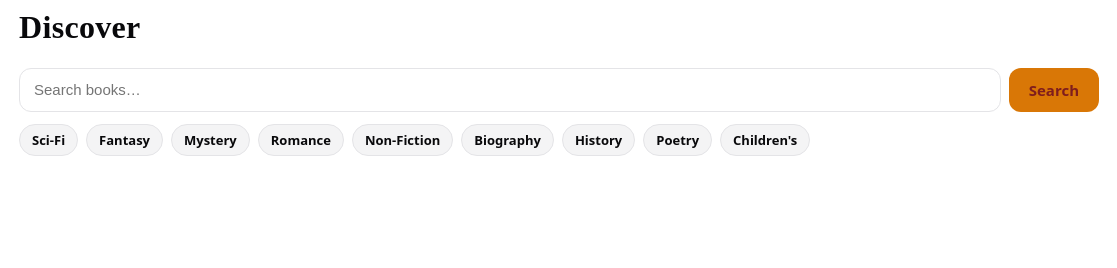
Discover › does not show a fake result list when the API returns nothing
Step 1. Type "zzzz" into the field with placeholder "Search books…" → (510, 90), box [19,68,1001,112]
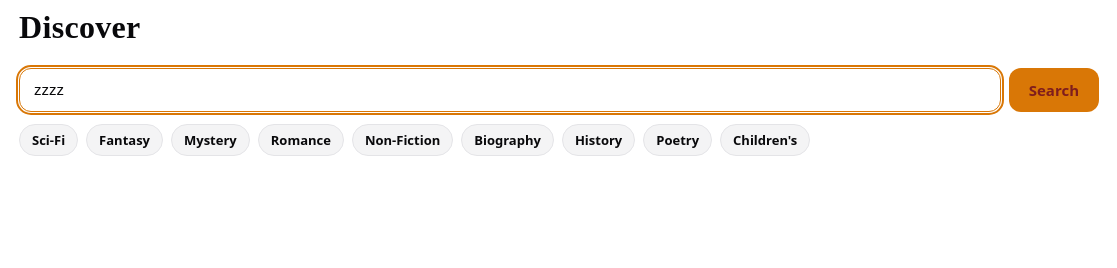
Step 2. Click the button "Search" → (1054, 90), box [1009,68,1099,112]
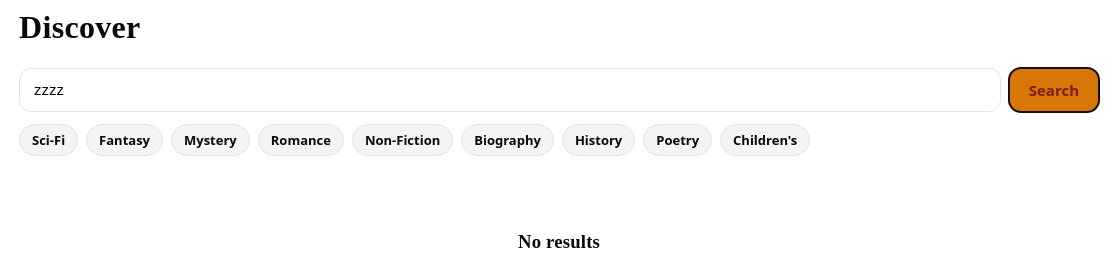
expect the heading "No results" is shown: met, box [518,231,600,252]
